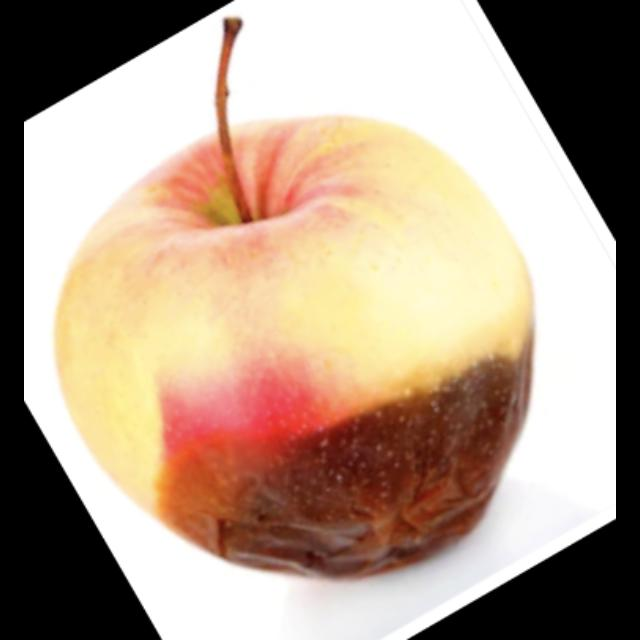Apel Tidak Segar: (46, 69, 574, 604)
